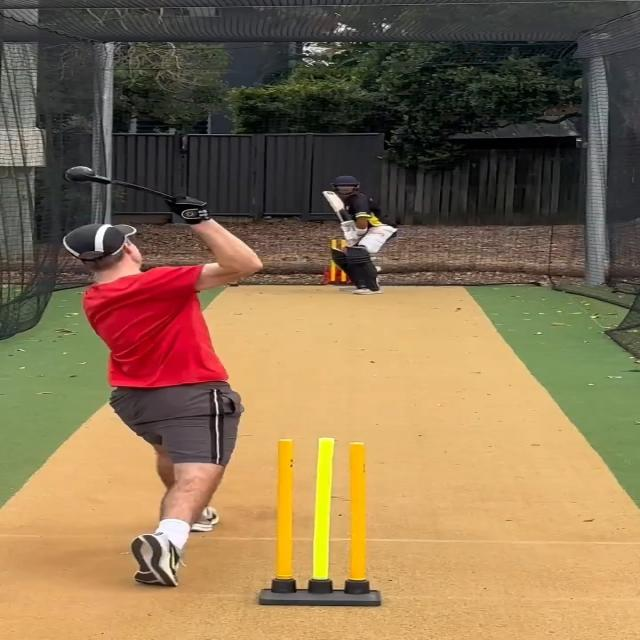stump: (259, 437, 381, 609)
